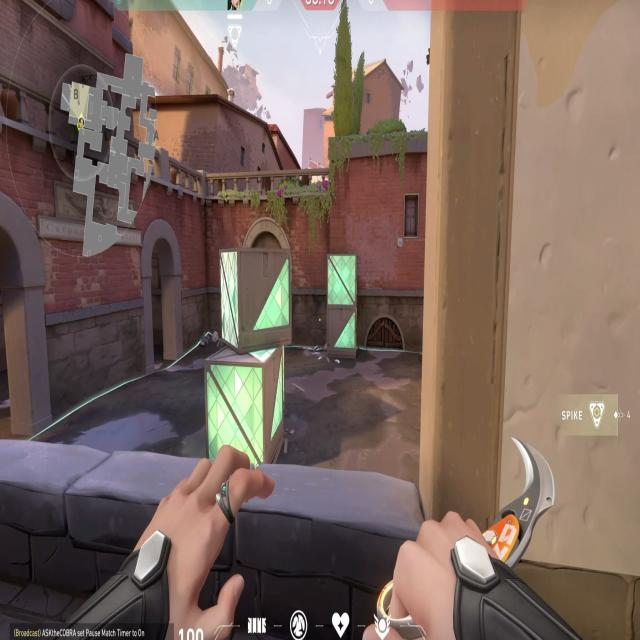B_Boathouse: (0, 182, 53, 435), (138, 218, 188, 368)
B_Site_Box: (212, 244, 296, 468)
